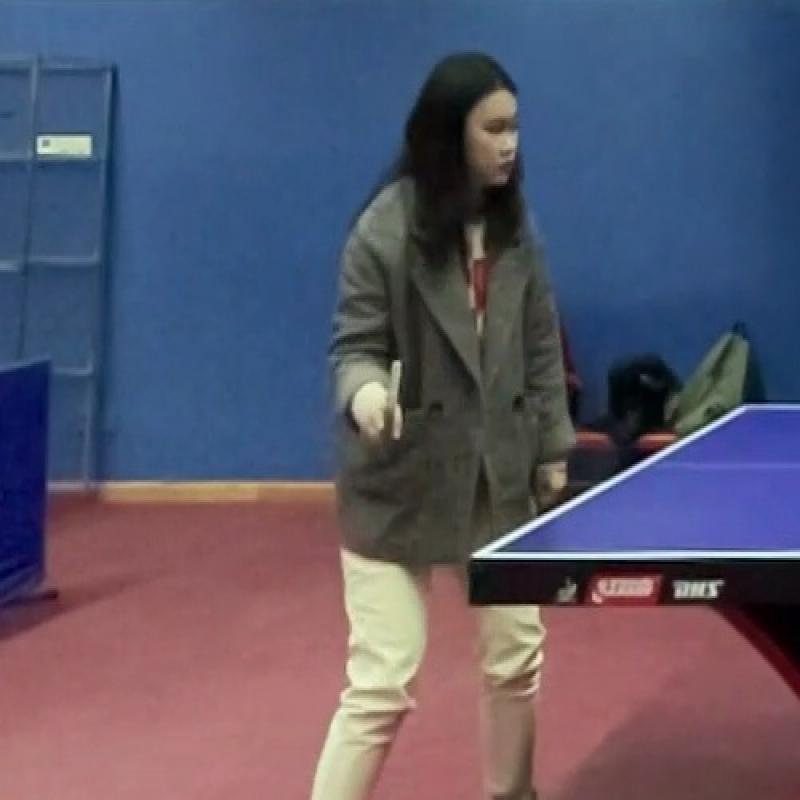bats: (342, 352, 437, 462)
